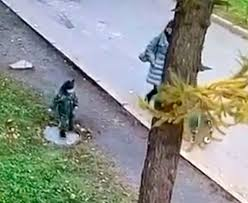Manhole-Closed: (43, 122, 83, 146)
human: (133, 16, 176, 105), (47, 74, 82, 139)
